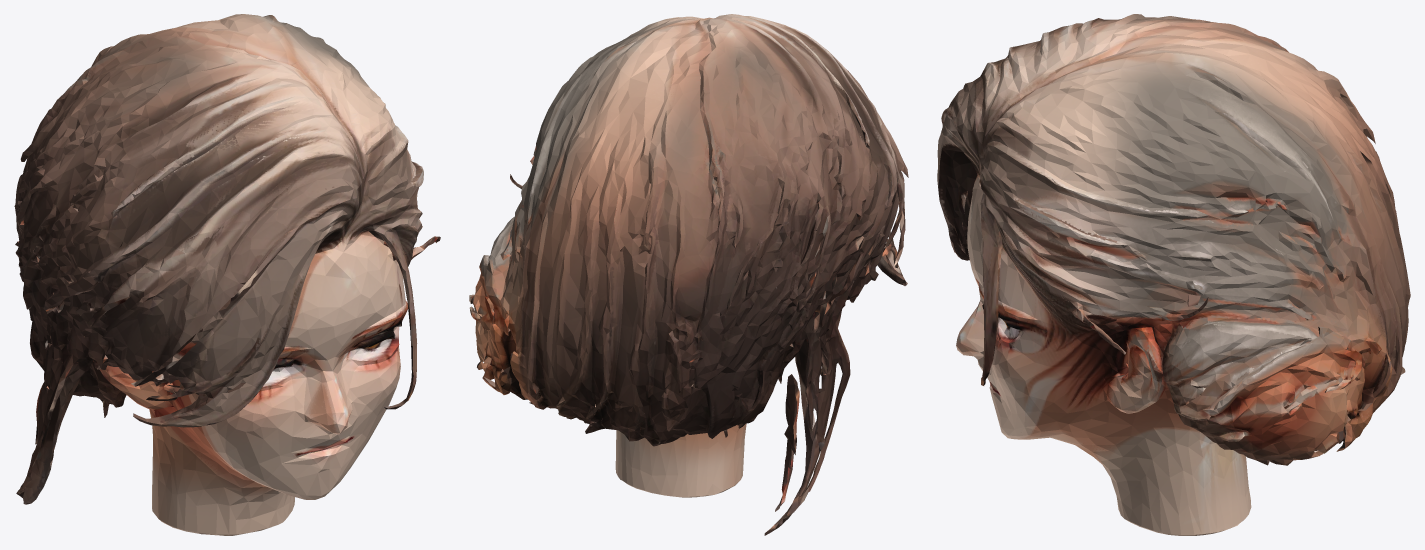
Rendered from side_shrinekeeper_repaired_atlas.glb.
3 views of the same model, side by side, from view 1: azimuth 30°, elevation 25°; view 2: azimuth 150°, elevation 25°; view 3: azimuth 270°, elevation 25° (orthographic). The views are drawn at different scales.
Visible parts, largest first — view 1: temp_mesh.ply; view 2: temp_mesh.ply; view 3: temp_mesh.ply.
Boxes of the visible parts, x1=… form: temp_mesh.ply: x1=14, y1=14, x2=440, y2=535; temp_mesh.ply: x1=469, y1=14, x2=908, y2=535; temp_mesh.ply: x1=937, y1=14, x2=1410, y2=535.
Bounding box in the file's own units: 1.21 × 1.44 × 1.31.
Materials: 1 (1 with a texture image).
